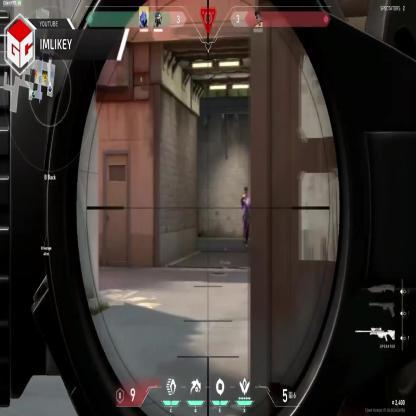enemy: (240, 186, 251, 243)
enemy_head: (245, 187, 248, 197)
